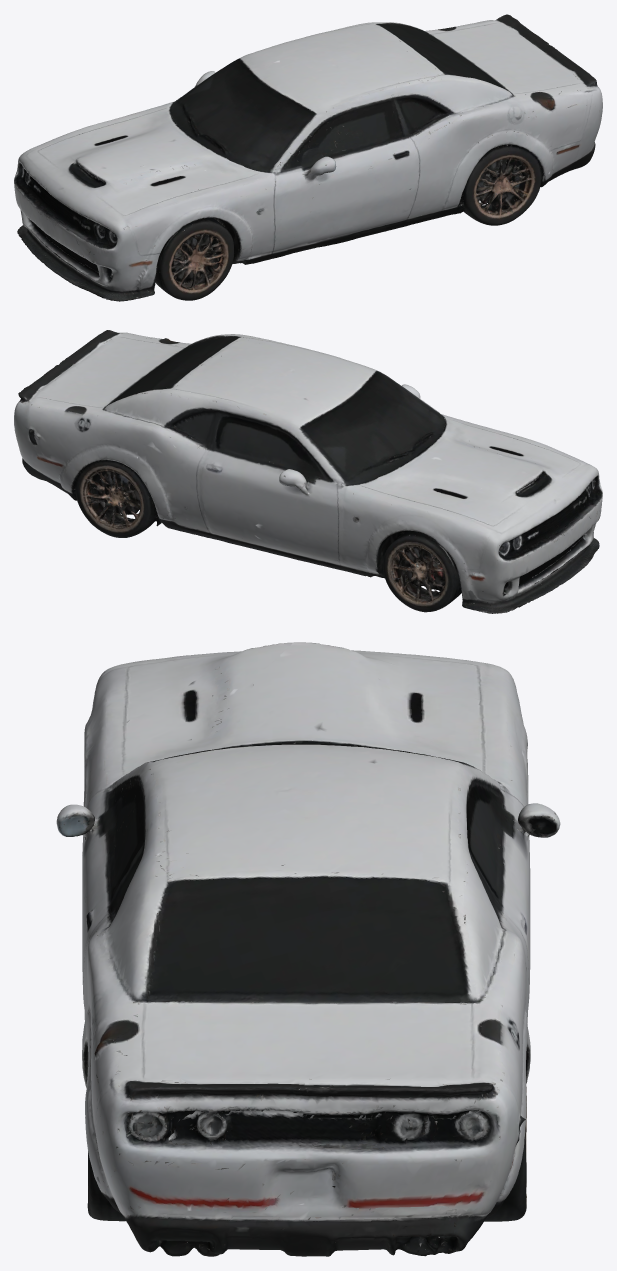
File: Dodge.glb
The picture shows the model from 3 angles, top to bottom: view 1: azimuth 30°, elevation 25°; view 2: azimuth 150°, elevation 25°; view 3: azimuth 270°, elevation 25°; orthographic projection. The views are drawn at different scales.
Visible parts, largest first — view 1: Mesh_0; view 2: Mesh_0; view 3: Mesh_0.
Boxes of the visible parts, x1,y1,x2,y2 form: Mesh_0: (14,14,602,301); Mesh_0: (14,330,602,613); Mesh_0: (56,642,560,1256).
Bounding box in the file's own units: 2 × 0.5743 × 0.8521.
1 material, 1 textured.
